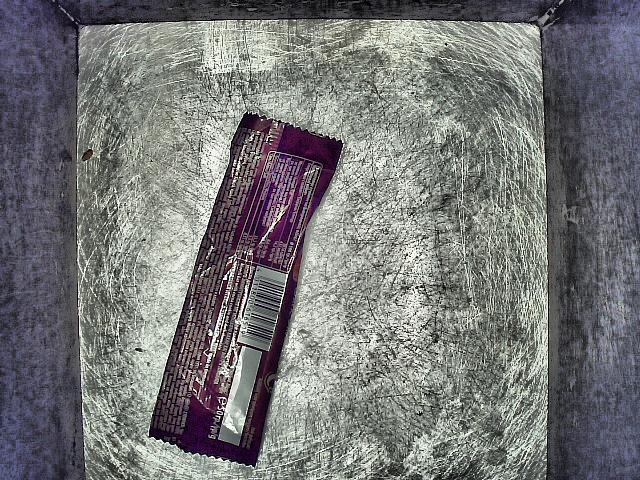Plastic: (134, 90, 346, 480)
